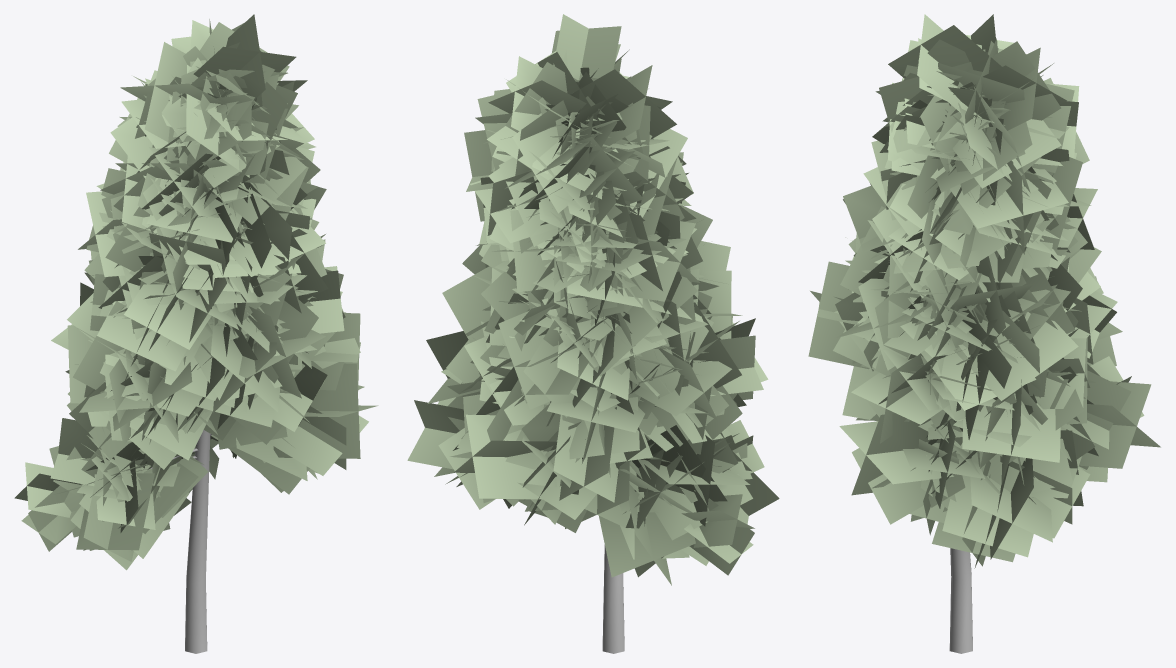
Rendered from hinoki.glb.
3 renders of one model, left to right at view 1: azimuth 30°, elevation 25°; view 2: azimuth 150°, elevation 25°; view 3: azimuth 270°, elevation 25°, orthographic. The views are drawn at different scales.
Bounding box in the file's own units: 11.37 × 21 × 10.32.
